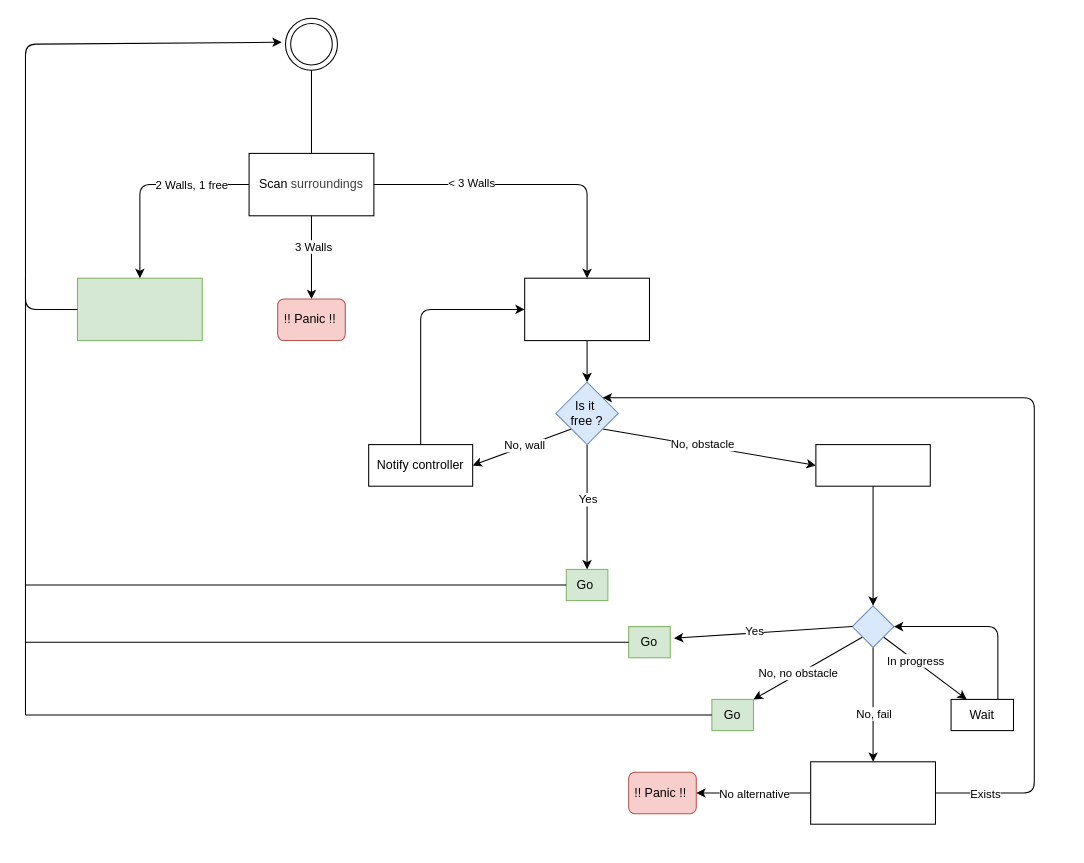
Image size: 1084x863. Some labels were removed from this diagram. Here are the shapes that lost their labels. From the top down, the centre of each, then its label:
At (139,309): "Go in free direction".
At (586,309): "Ask controller for directions".
At (872,465): "Ask controller to remove it".
At (872,626): "Ok ?".
At (872,792): "Ask controller for alternative path".
